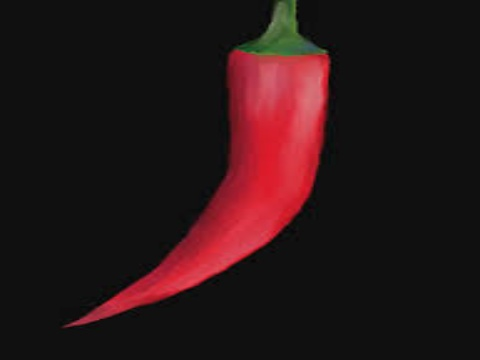Chilli: (73, 5, 349, 332)
